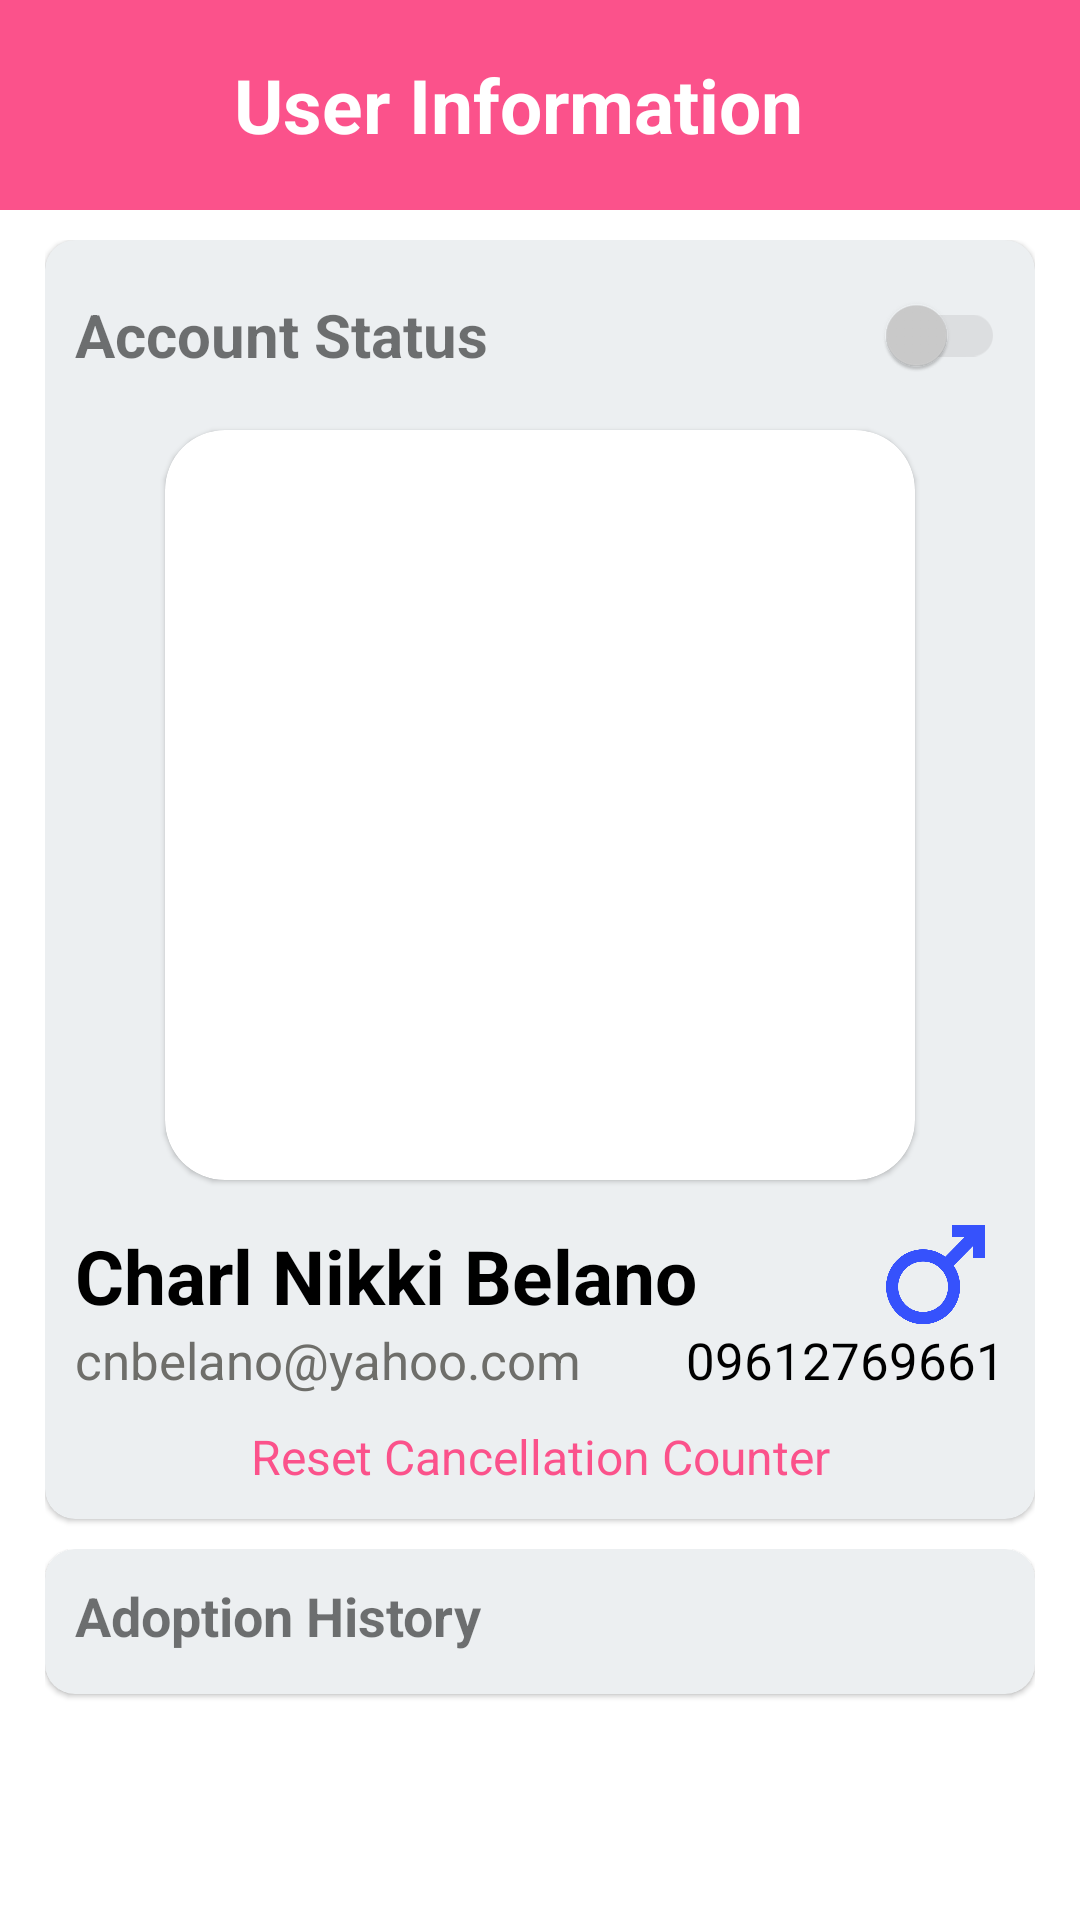

Icons on this 1080px x 1920px Android screen, each with the point to tap as (x=x, y=y):
gender male: (x=935, y=1274)
